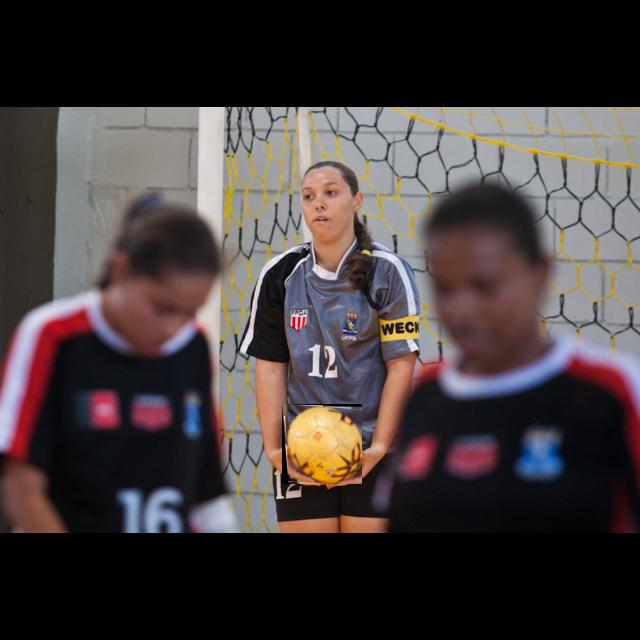Football: (282, 404, 362, 484)
